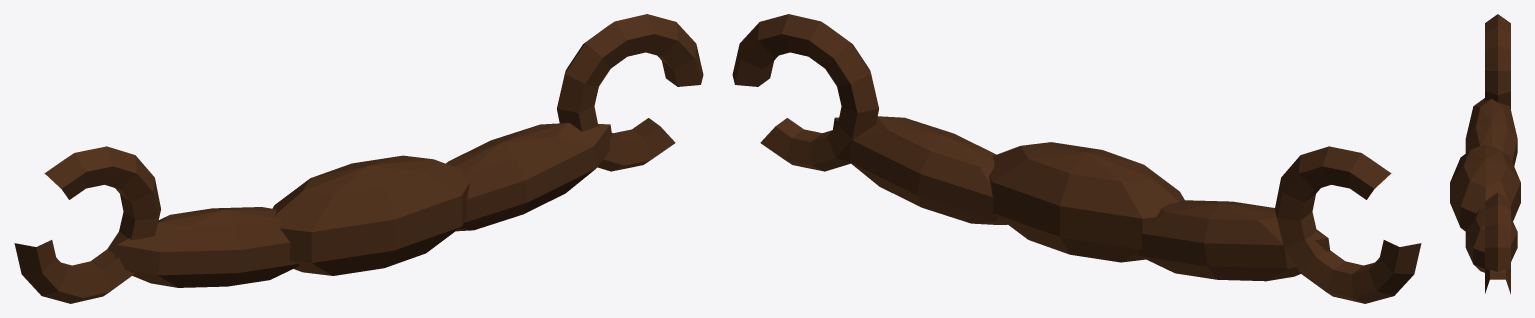
The model's file is disguise_chef_mustache.glb.
The picture shows the model from 3 angles, left to right: view 1: azimuth 30°, elevation 25°; view 2: azimuth 150°, elevation 25°; view 3: azimuth 270°, elevation 25°; orthographic projection. The views are drawn at different scales.
Visible parts, largest first — view 1: mustache_chef_brown, curl_chef_brown; view 2: mustache_chef_brown, curl_chef_brown; view 3: mustache_chef_brown, curl_chef_brown.
Boxes of the visible parts, x1,y1,x2,y2 form: mustache_chef_brown: [114, 123, 612, 287]; curl_chef_brown: [14, 14, 703, 303]; mustache_chef_brown: [833, 116, 1330, 281]; curl_chef_brown: [732, 14, 1421, 303]; mustache_chef_brown: [1450, 98, 1520, 272]; curl_chef_brown: [1485, 14, 1510, 294].
Bounding box in the file's own units: 0.432 × 0.1052 × 0.0571.
